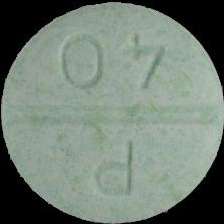50436-4314: (0, 0, 224, 224)
